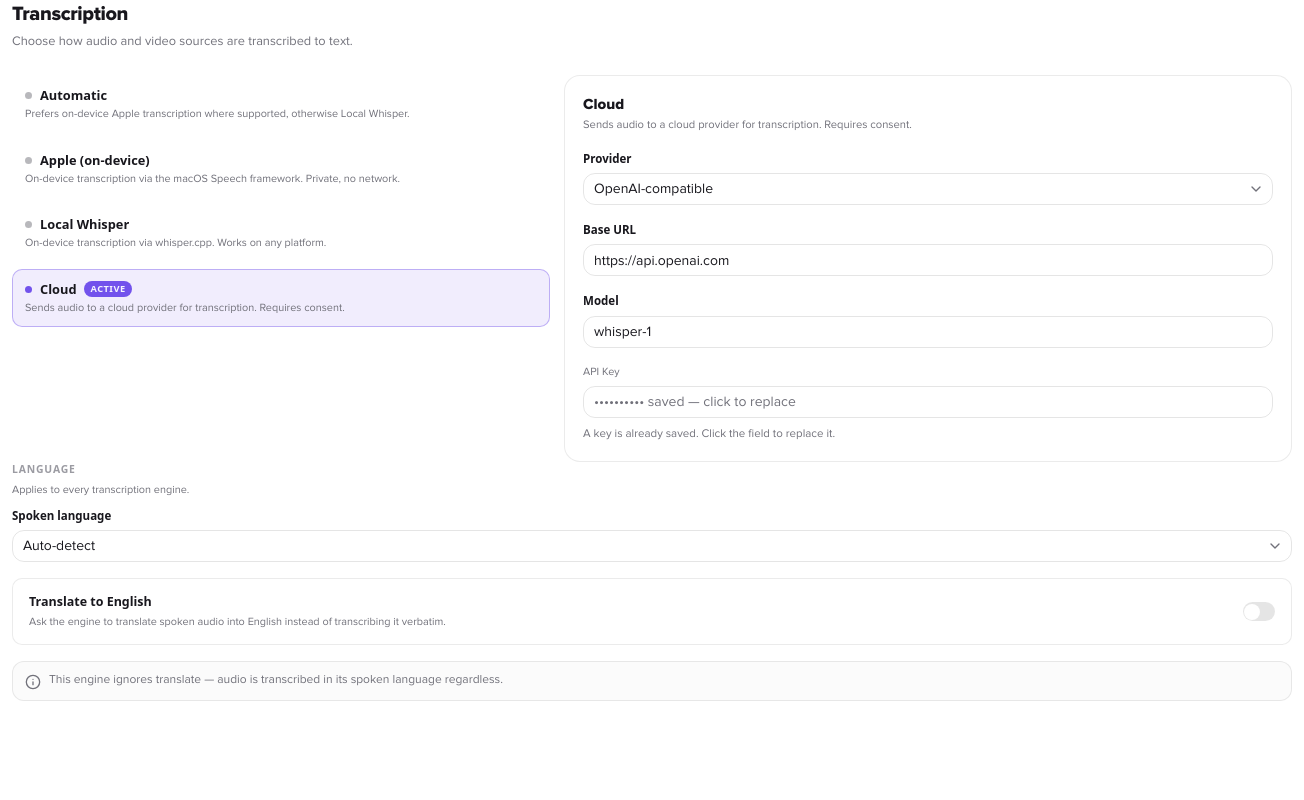
Test case: TranscriptionSection — the resolved engine is re-read after router inputs change › re-asks the router when the Cloud pane persists a change
This screenshot has width=1304, height=800.
Expected: the text "ignores translate" is shown, left=49, top=672, right=503, bottom=687
Clear the field labelled "Base URL" at (928, 260), box left=583, top=244, right=1273, bottom=276
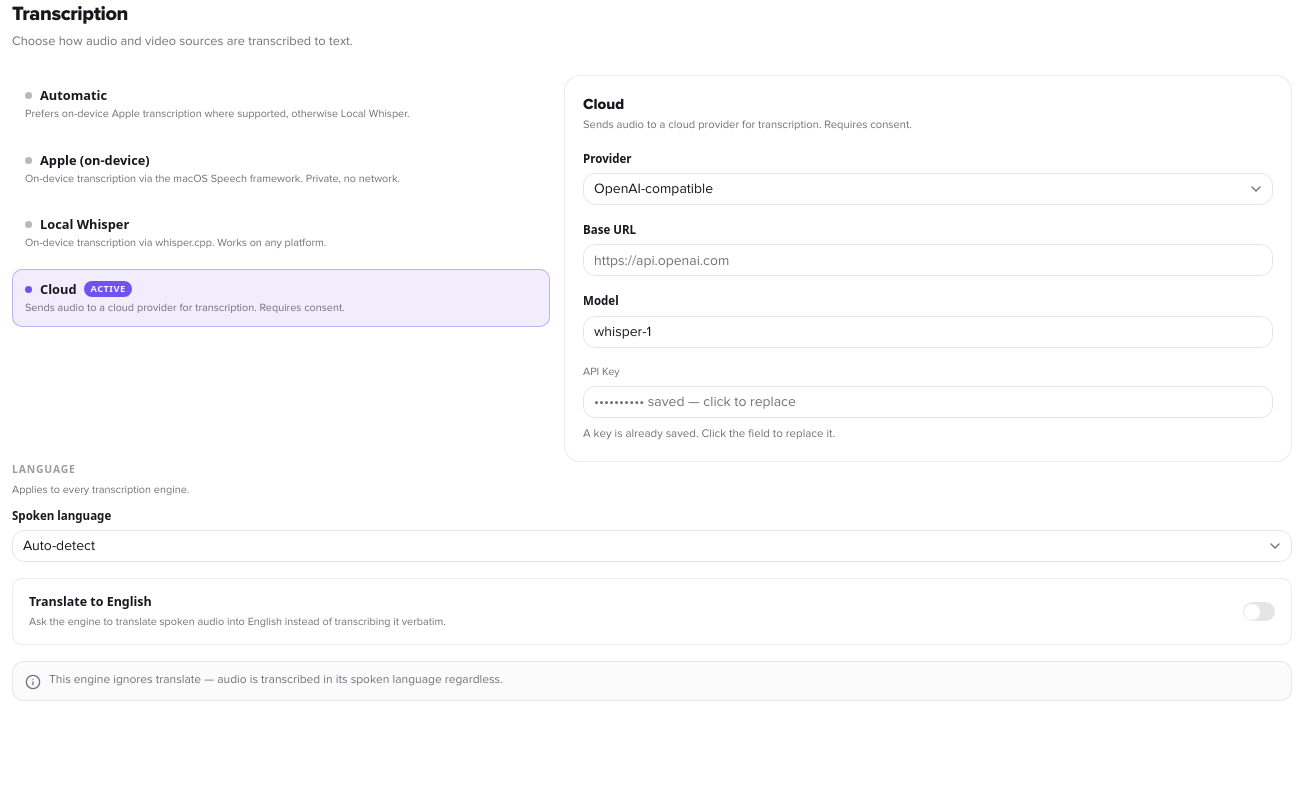
Leave the field labelled "Base URL", box left=583, top=244, right=1273, bottom=276
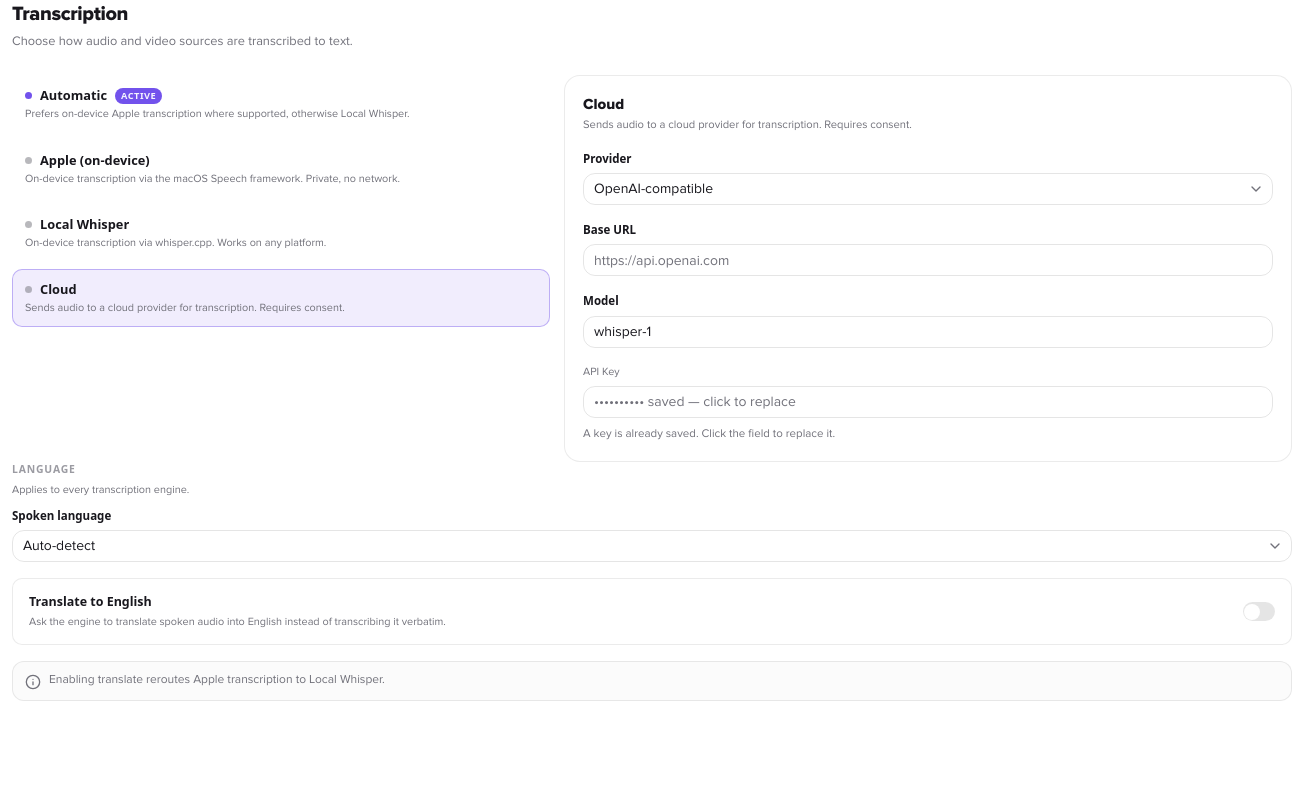
Now the text "reroutes Apple transcription to Local Whisper" is shown, box left=49, top=672, right=385, bottom=687
Now the text "ignores translate" is gone
